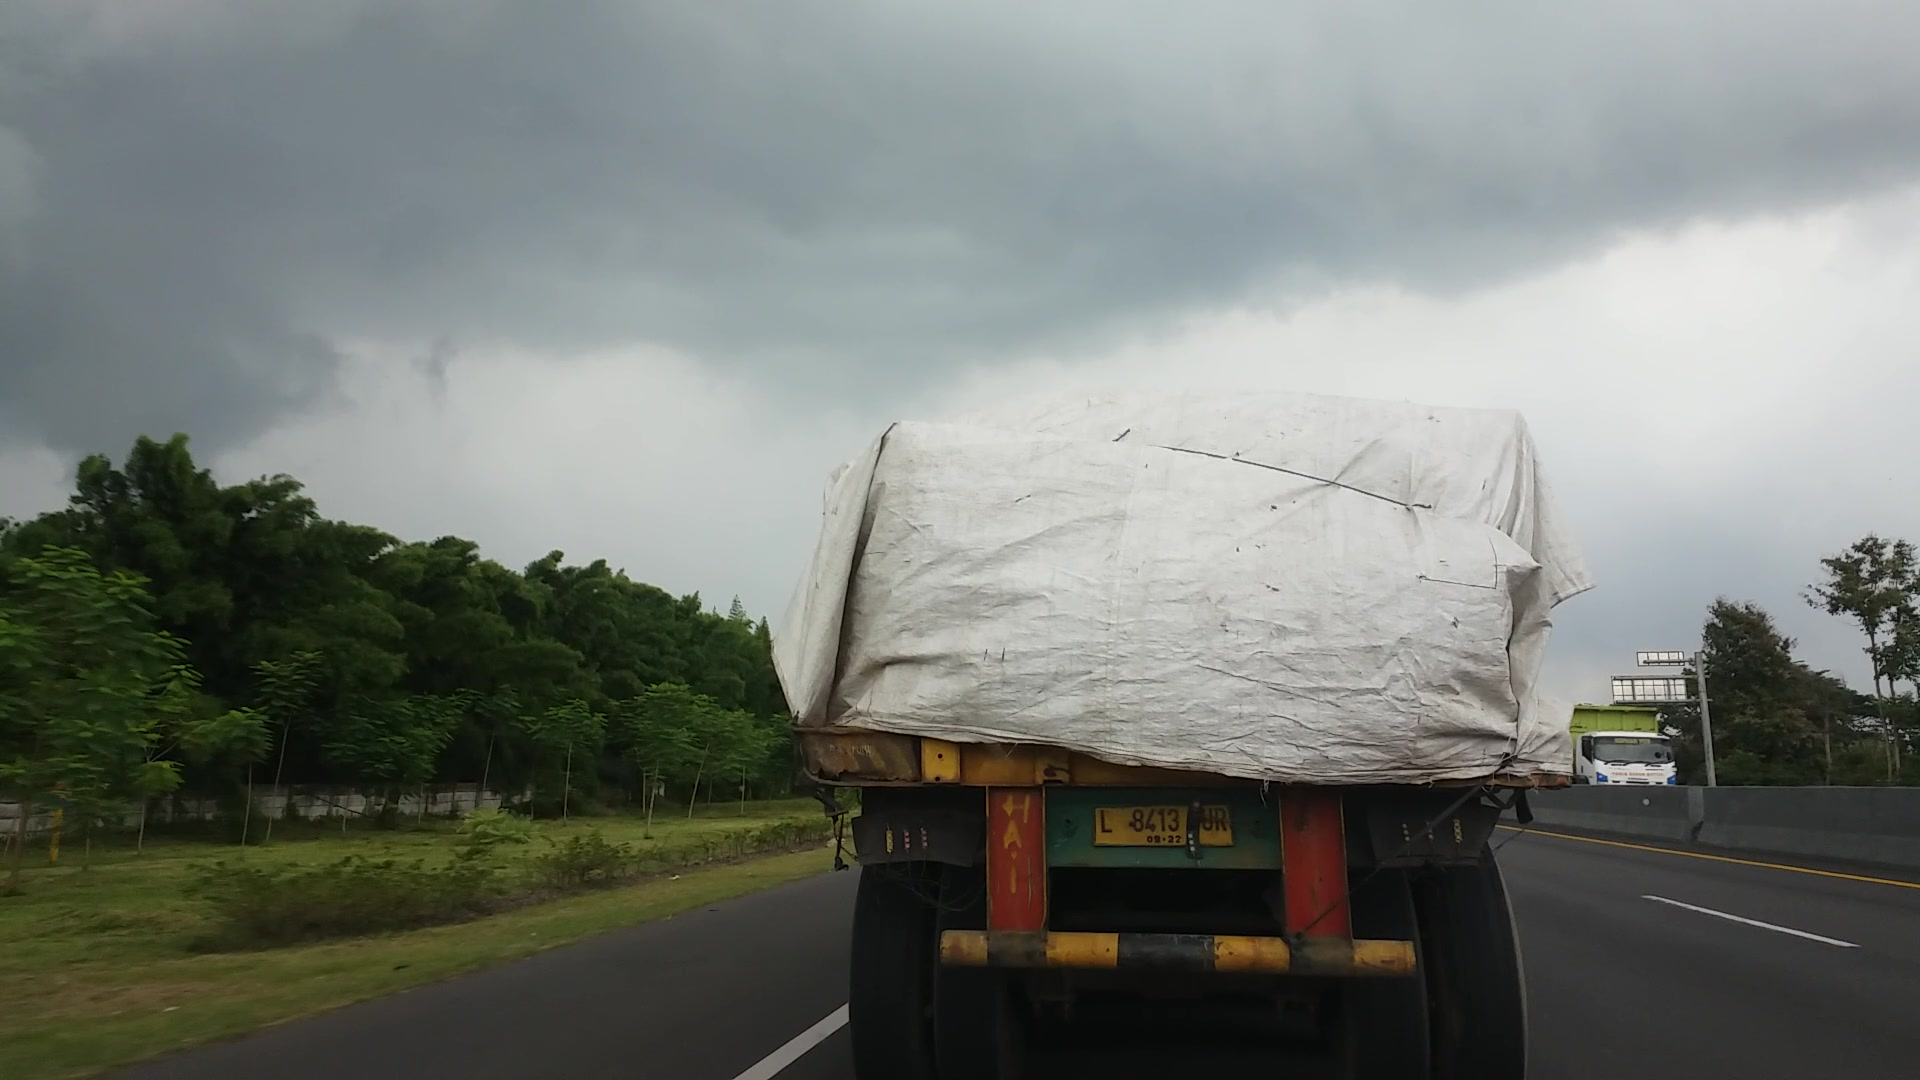plate_positive: (1095, 804, 1232, 848)
